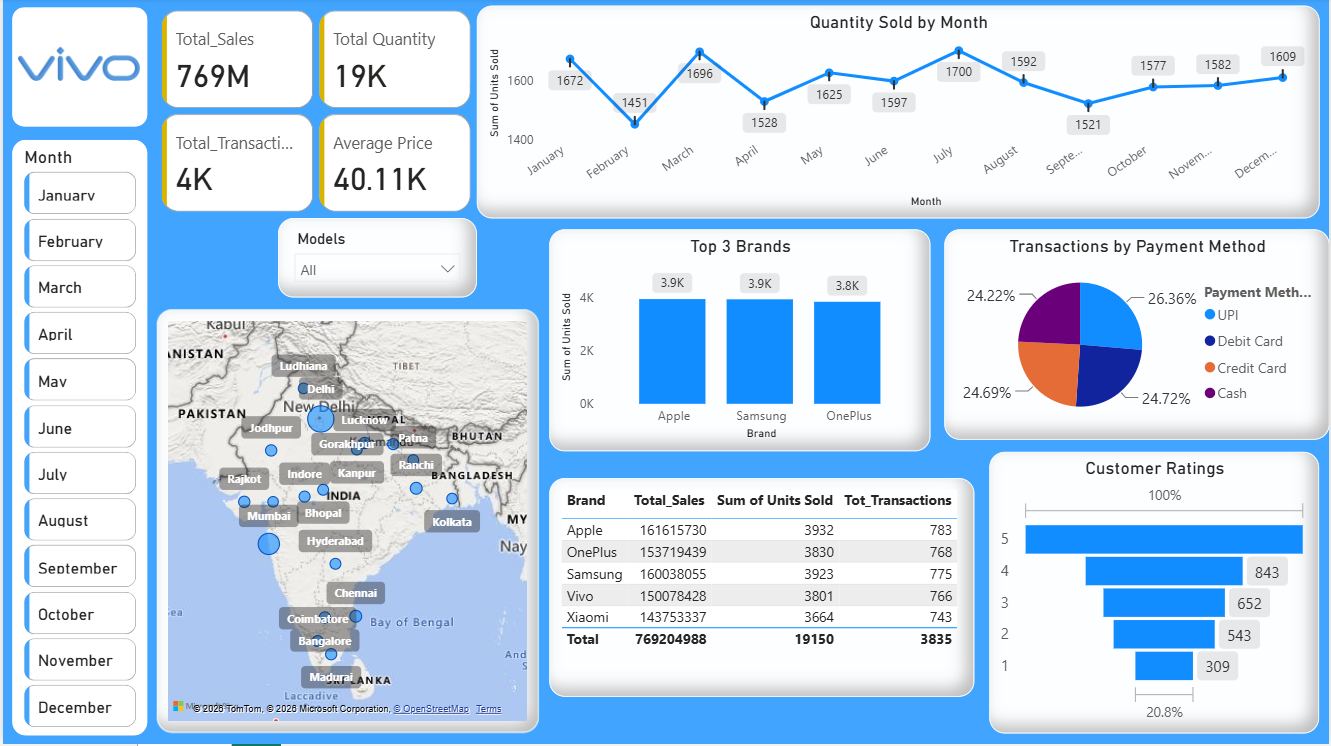

The dashboard page shown, as its layout file describes it:
{"tool":"powerbi","page":{"name":"Page 1","canvas":[1280,720],"ordinal":0},"visuals":[{"type":"shape","box":[0,0,148.2,133.1],"z":0},{"type":"image","box":[9.6,0,127.6,127.6],"z":1000},{"type":"shape","box":[0,127.6,148.2,592.8],"z":2000},{"type":"advancedSlicerVisual","fields":{"Values":["Sales_Data.Date.Variation.Date Hierarchy.Month"]},"box":[15.1,144.1,118,565.4],"z":3000},{"type":"cardVisual","fields":{"Data":["Sales_Data.Total_Sales","Sum(Sales_Data.Units Sold)","Sales_Data.Tot_Quantity","Avg(Sales_Data.Price Per Unit)"]},"box":[148.2,6.9,308.7,205.8],"z":4000},{"type":"map","fields":{"Category":["Sales_Data.City"],"Size":["Sales_Data.Total_Sales"]},"box":[148.2,300.5,369.1,408.9],"z":5000},{"type":"lineChart","title":"Quantity Sold by Month","fields":{"Category":["Sales_Data.Date.Variation.Date Hierarchy.Month"],"Y":["Sum(Sales_Data.Units Sold)"]},"box":[456.9,6.9,813.7,205.8],"z":6000},{"type":"clusteredColumnChart","title":"Top 3 Brands ","fields":{"Category":["Sales_Data.Brand"],"Y":["Sum(Sales_Data.Units Sold)"]},"box":[526.9,223.7,367.8,214.1],"z":7000},{"type":"pieChart","title":"Transactions by Payment Method","fields":{"Y":["Sales_Data.Tot_Transactions"],"Category":["Sales_Data.Payment Method"]},"box":[908.4,223.7,371.9,203.1],"z":8000},{"type":"funnel","title":"Customer Ratings","fields":{"Category":["Sales_Data.Customer Ratings"],"Y":["CountNonNull(Sales_Data.Customer Ratings)"]},"box":[952.3,437.7,318.4,271.7],"z":9000},{"type":"tableEx","fields":{"Values":["Sales_Data.Brand","Sales_Data.Total_Sales","Sum(Sales_Data.Units Sold)","Sales_Data.Tot_Transactions"]},"box":[526.9,463.8,410.3,211.3],"z":10000},{"type":"slicer","fields":{"Values":["Sales_Data.Brand"]},"box":[264.8,212.7,192.1,76.8],"z":11000}]}

Visuals, with their boxes in screenshot pixels (x1, y1, x2, y2), scaled from the page's 1280x720 canvas onto the 1331x746 screenshot:
shape: crop(0, 0, 154, 138)
image: crop(10, 0, 143, 132)
shape: crop(0, 132, 154, 745)
advancedSlicerVisual - Sales_Data.Date.Variation.Date Hierarchy.Month: crop(16, 149, 138, 735)
cardVisual - Sales_Data.Total_Sales x Sum(Sales_Data.Units Sold): crop(154, 7, 475, 220)
map - Sales_Data.City x Sales_Data.Total_Sales: crop(154, 311, 538, 735)
"Quantity Sold by Month" lineChart: crop(475, 7, 1321, 220)
"Top 3 Brands " clusteredColumnChart: crop(548, 232, 930, 454)
"Transactions by Payment Method" pieChart: crop(945, 232, 1330, 442)
"Customer Ratings" funnel: crop(990, 454, 1321, 735)
tableEx - Sales_Data.Brand x Sales_Data.Total_Sales: crop(548, 481, 975, 699)
slicer - Sales_Data.Brand: crop(275, 220, 475, 300)
